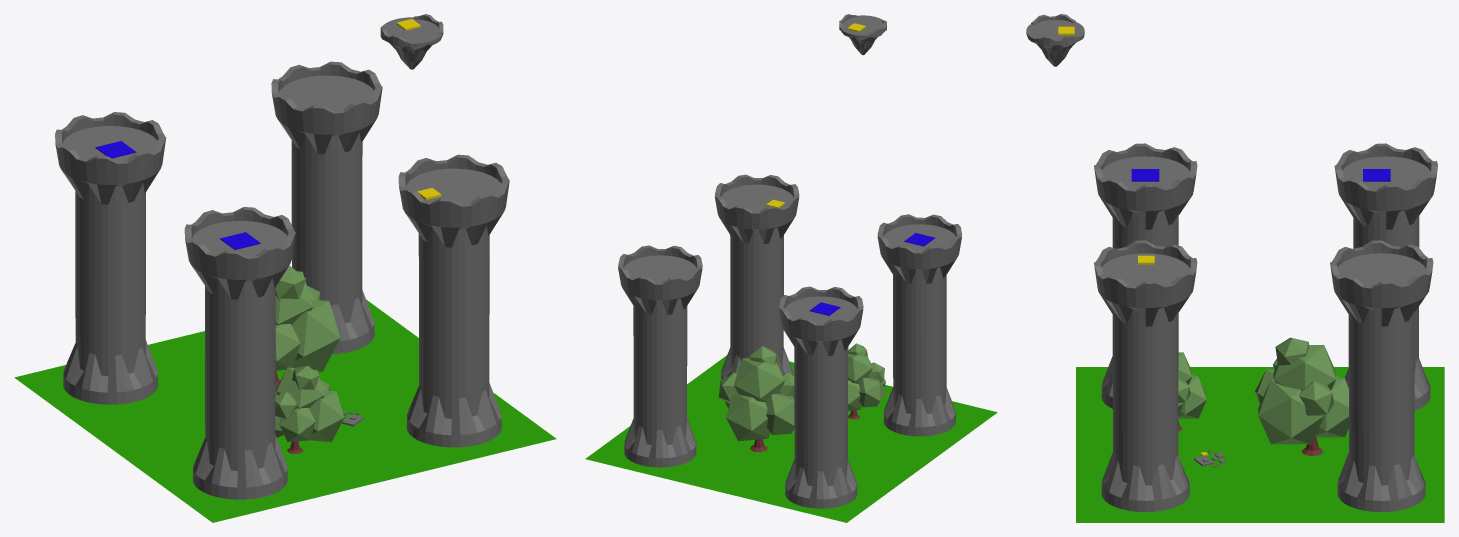
File: interactiveObjects.glb
3 renders of one model, left to right at view 1: azimuth 30°, elevation 25°; view 2: azimuth 150°, elevation 25°; view 3: azimuth 270°, elevation 25°, orthographic. The views are drawn at different scales.
Parts seen in each view (by area): view 1: Plane, Cylinder.001, Cylinder.002, Cylinder.034, Cylinder.003, Icosphere.005, Icosphere.002, platforme_roche.008; view 2: Plane, Cylinder.003, Cylinder.002, Cylinder.034, Cylinder.001, Icosphere.005, Icosphere.002, platforme_roche.008; view 3: Plane, Cylinder.003, Cylinder.001, Cylinder.002, Cylinder.034, Icosphere.005, platforme_roche.008, Icosphere.002.
Part boxes in pixels (x1,y1,x2,y2): Plane: (14,299,556,522); Cylinder.001: (398,154,509,447); Cylinder.002: (55,112,166,404); Cylinder.034: (184,207,295,499); Cylinder.003: (271,61,382,354); Icosphere.005: (275,265,340,371); Icosphere.002: (275,365,344,442); platforme_roche.008: (380,14,443,69); Plane: (585,355,997,522); Cylinder.003: (618,245,702,467); Cylinder.002: (779,286,863,508); Cylinder.034: (877,214,962,436); Cylinder.001: (714,174,799,379); Icosphere.005: (718,346,794,441); Icosphere.002: (848,343,886,410); platforme_roche.008: (839,14,886,55); Plane: (1076,367,1444,522); Cylinder.003: (1330,240,1433,512); Cylinder.001: (1094,240,1197,512); Cylinder.002: (1334,143,1437,410); Cylinder.034: (1094,143,1197,408); Icosphere.005: (1255,337,1348,444); platforme_roche.008: (1026,14,1084,66); Icosphere.002: (1178,352,1206,418).
Size of the model in its own units: 84.82 by 108 by 96.22.
